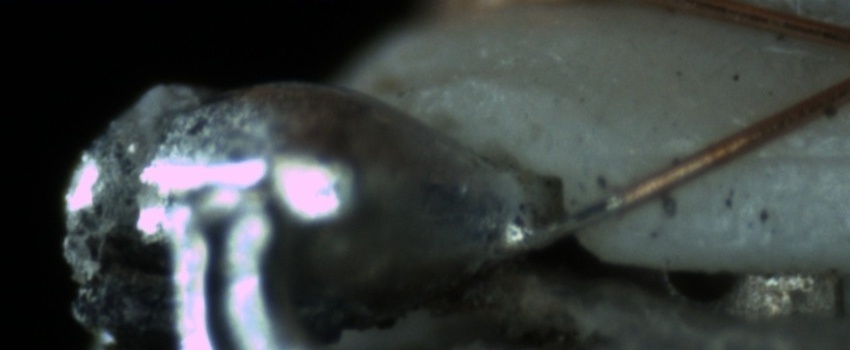DL: (706, 122, 850, 190)
TS: (511, 193, 630, 246)
TTCW: (518, 181, 644, 243)
